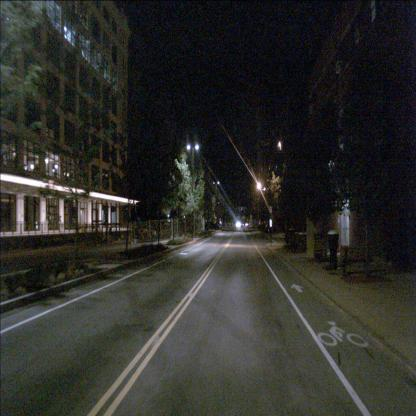vehicle-car: (205, 221, 222, 230), (236, 221, 241, 228)
